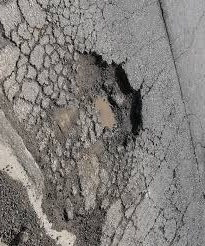pothole: (27, 46, 158, 239)
